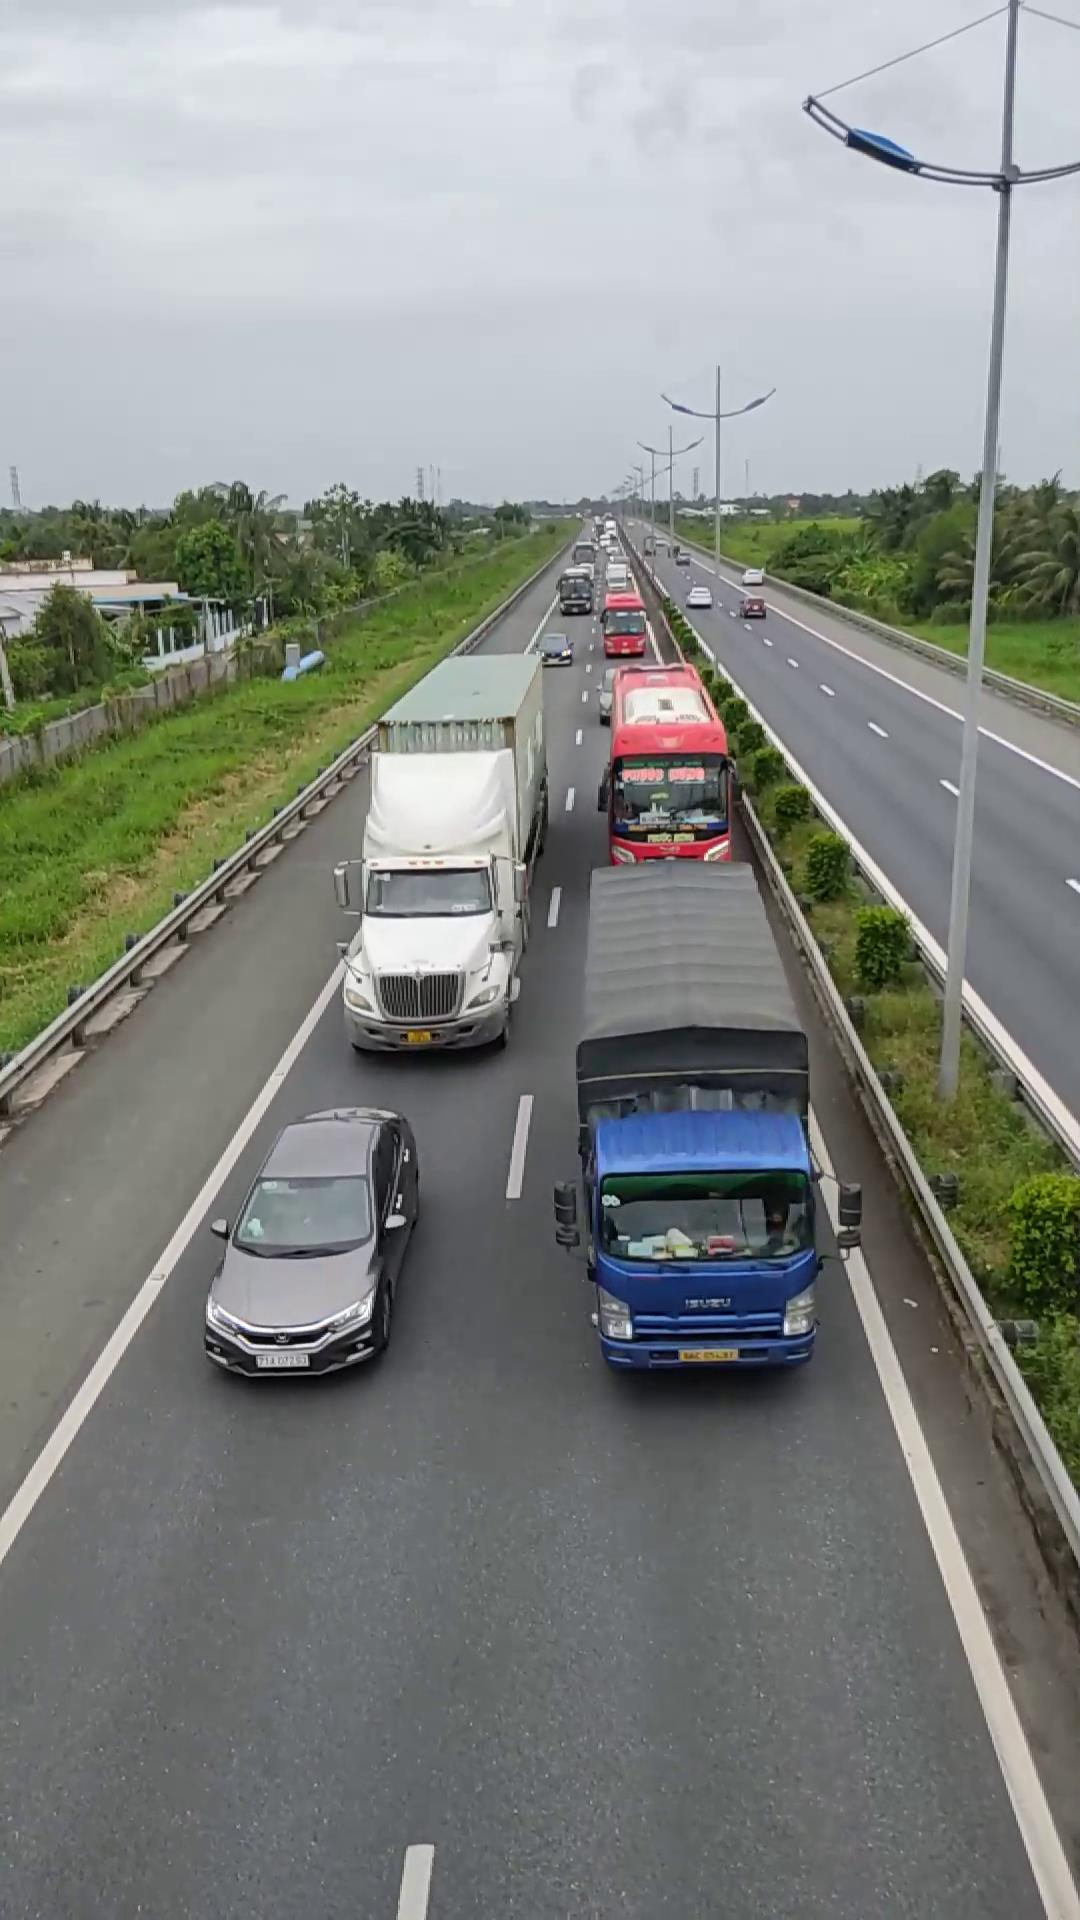car: (191, 1112, 414, 1382)
container: (340, 645, 554, 1056)
truck: (554, 880, 829, 1375)
